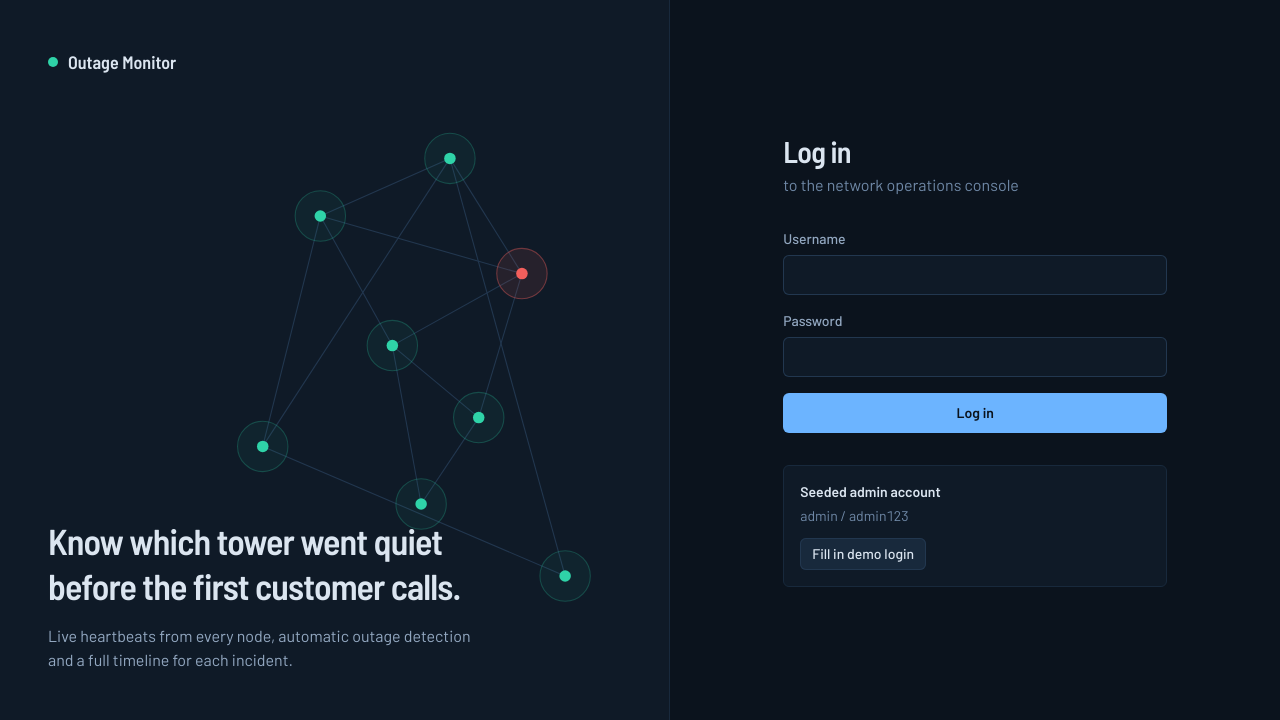
Test: LoginPage › logs in and opens the overview
In the field labelled "Username": (975, 275) x1=783 y1=255 x2=1167 y2=295, type "admin"
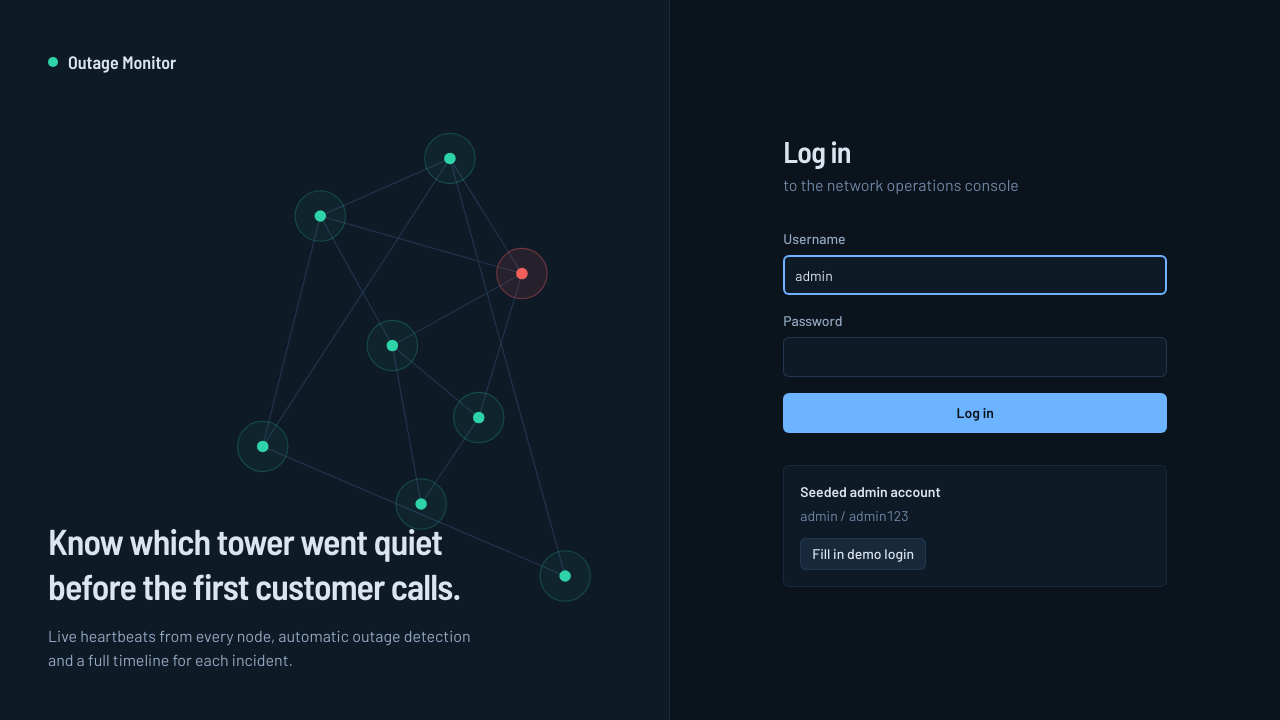
In the password field labelled "Password": (975, 357) x1=783 y1=337 x2=1167 y2=377, type "admin123"
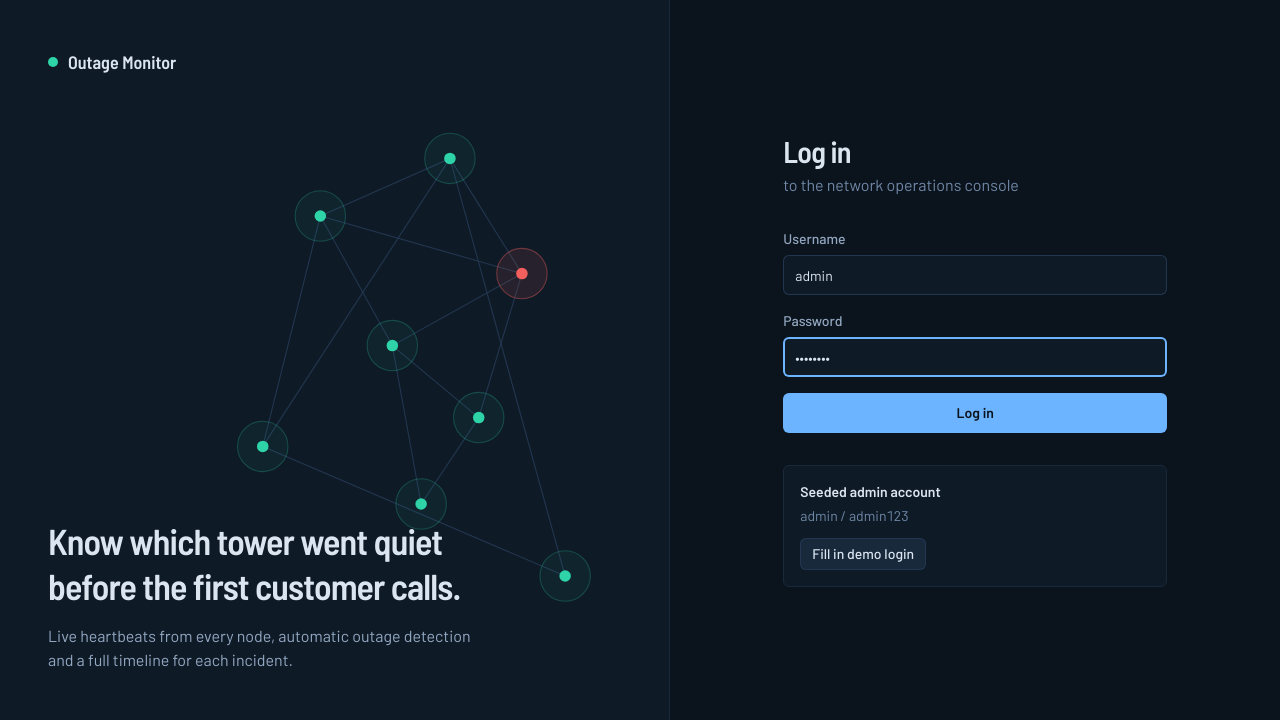
Click the button "Log in": (975, 413) x1=783 y1=393 x2=1167 y2=433
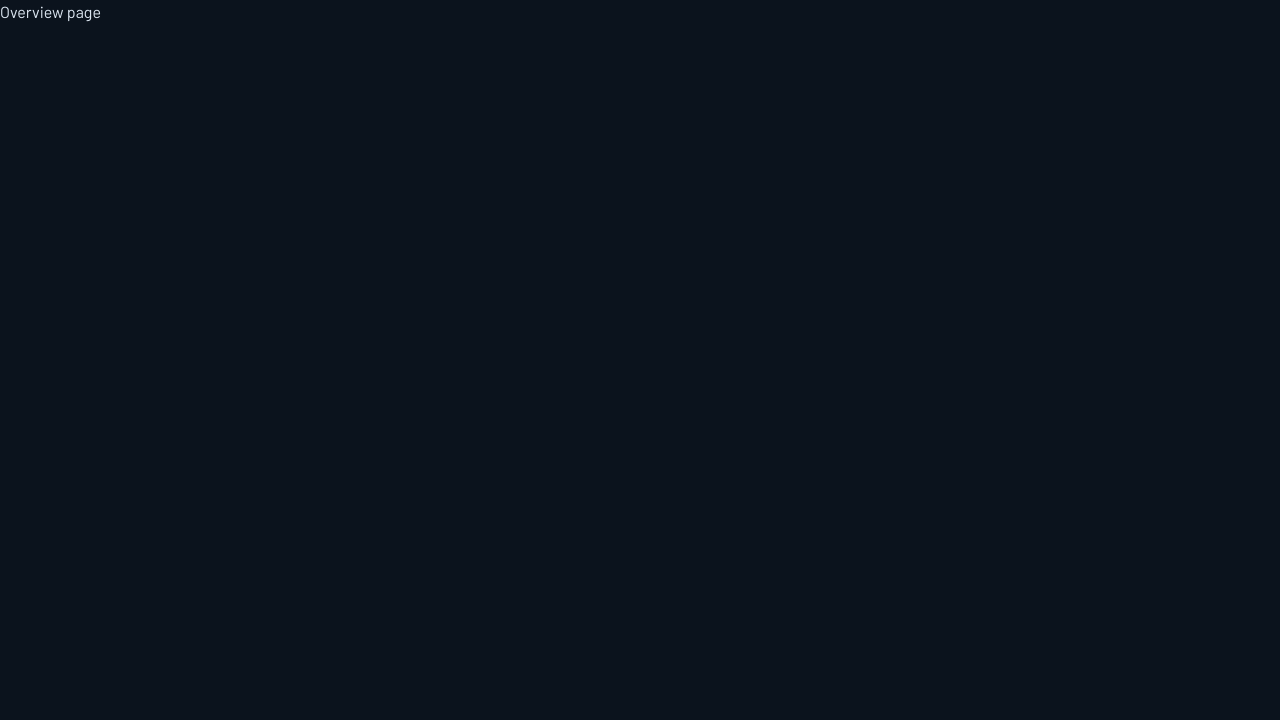
Expected: the text "Overview page" is shown, x1=0 y1=2 x2=101 y2=21
